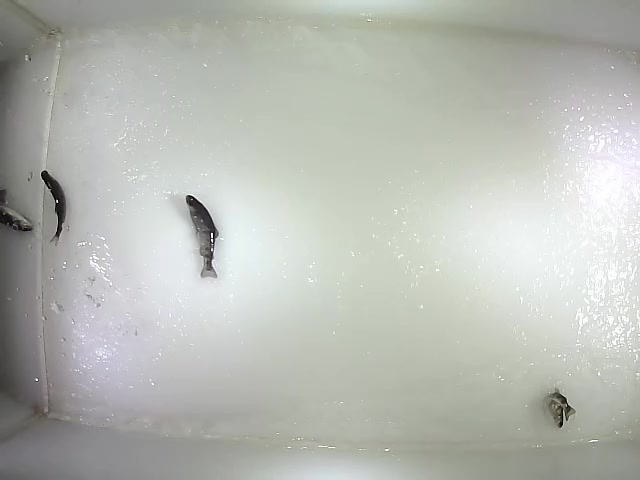fish: (184, 193, 220, 280), (40, 169, 67, 248), (542, 387, 577, 429)
